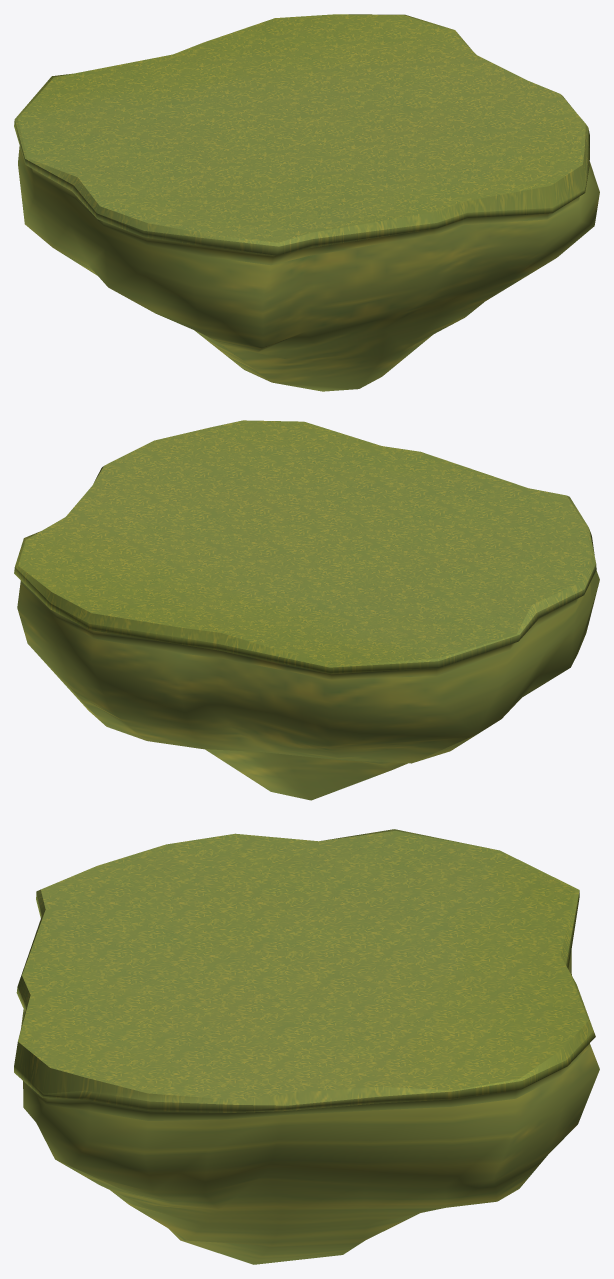
The model's file is obj_IsleSmall (1).fbx.
3 views of the same model, one above another, from view 1: azimuth 30°, elevation 25°; view 2: azimuth 150°, elevation 25°; view 3: azimuth 270°, elevation 25° (orthographic). The views are drawn at different scales.
Visible parts, largest first — view 1: obj_IsleSmall; view 2: obj_IsleSmall; view 3: obj_IsleSmall.
Boxes of the visible parts, <box> form: obj_IsleSmall: <box>14,14,599,391</box>; obj_IsleSmall: <box>14,420,599,800</box>; obj_IsleSmall: <box>14,829,599,1264</box>.
Bounding box in the file's own units: 5829 × 2895 × 5302.
